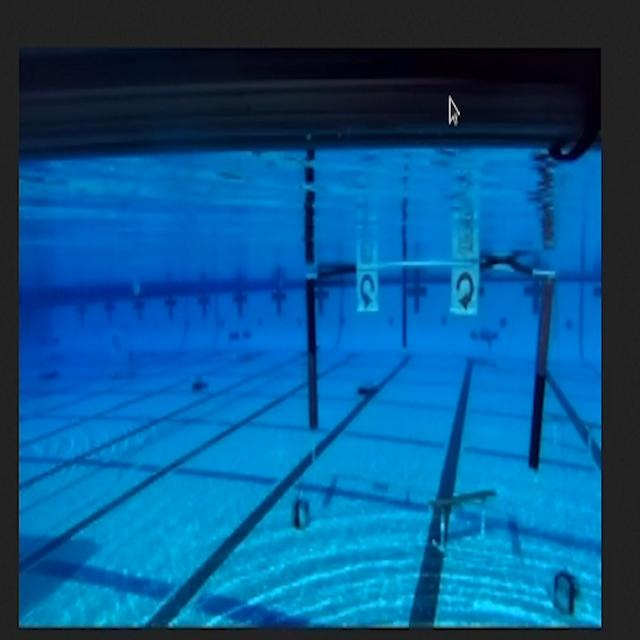Gate: (302, 257, 559, 481)
